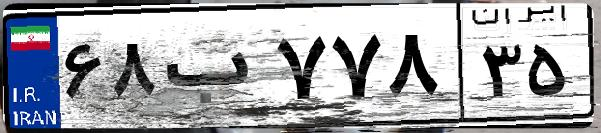3: (475, 38, 525, 113)
5: (525, 38, 570, 115)
6: (57, 26, 110, 100)
7: (270, 28, 330, 110), (330, 28, 385, 110)
8: (385, 28, 445, 110), (110, 28, 158, 98)
ب: (158, 20, 270, 120)
